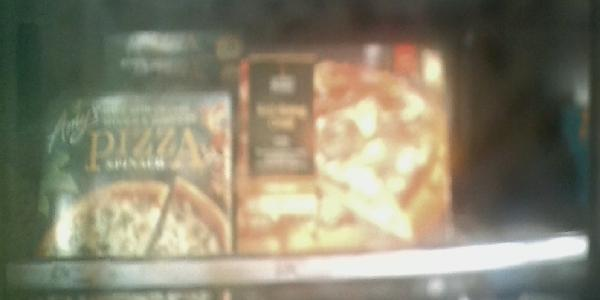pizza1: (238, 49, 457, 248), (24, 97, 233, 254)
